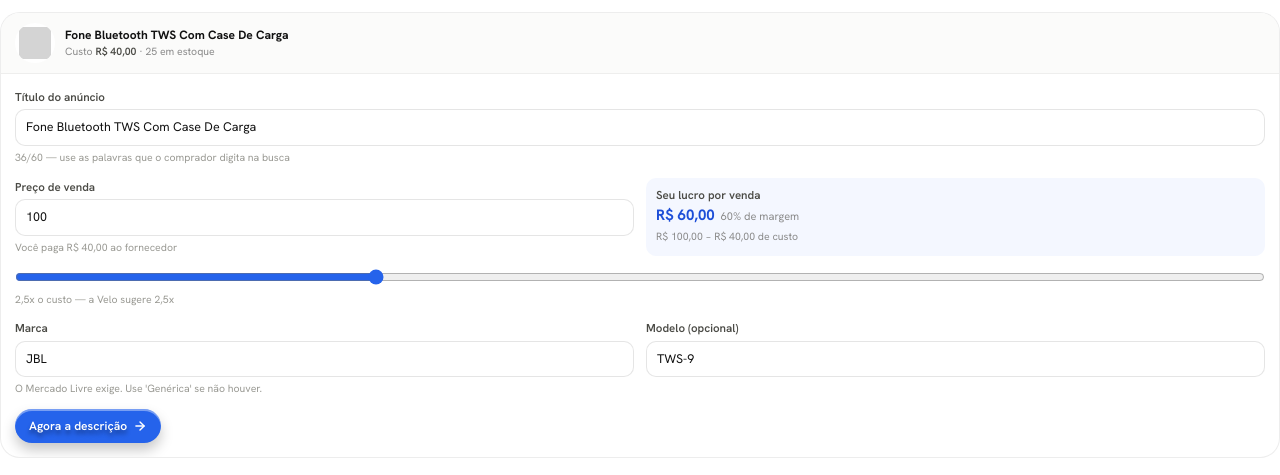
Test: AtlasPublishComposer › leva o custo para o resumo da revisão
Expected: the field showing "Fone Bluetooth TWS" is shown, left=15, top=109, right=1265, bottom=146
Step 1. Click the button "Agora a descrição" → point(88, 426), box left=15, top=409, right=161, bottom=443
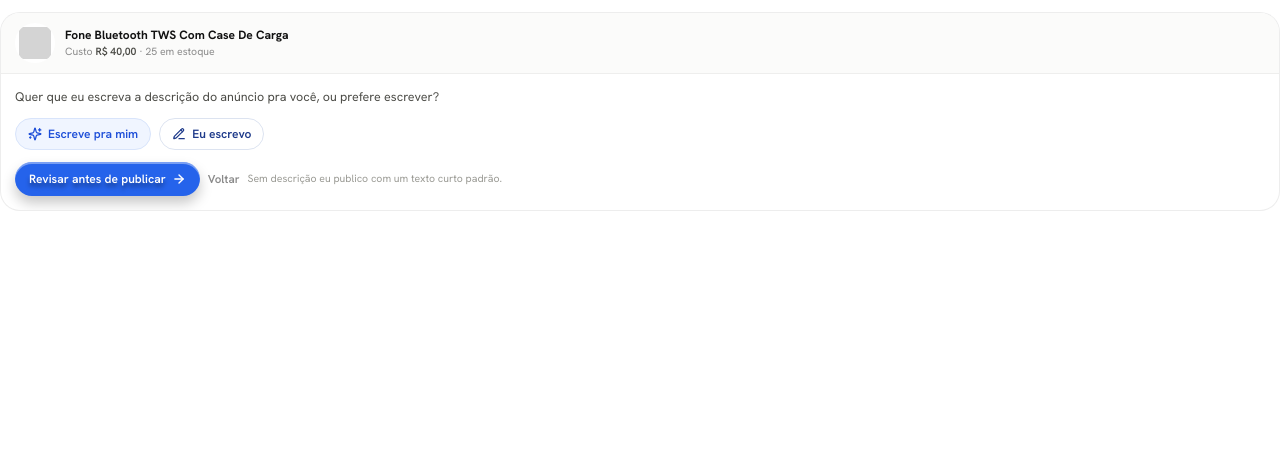
Step 2. Click the button "Revisar antes de publicar" → point(107, 179), box left=15, top=162, right=200, bottom=196
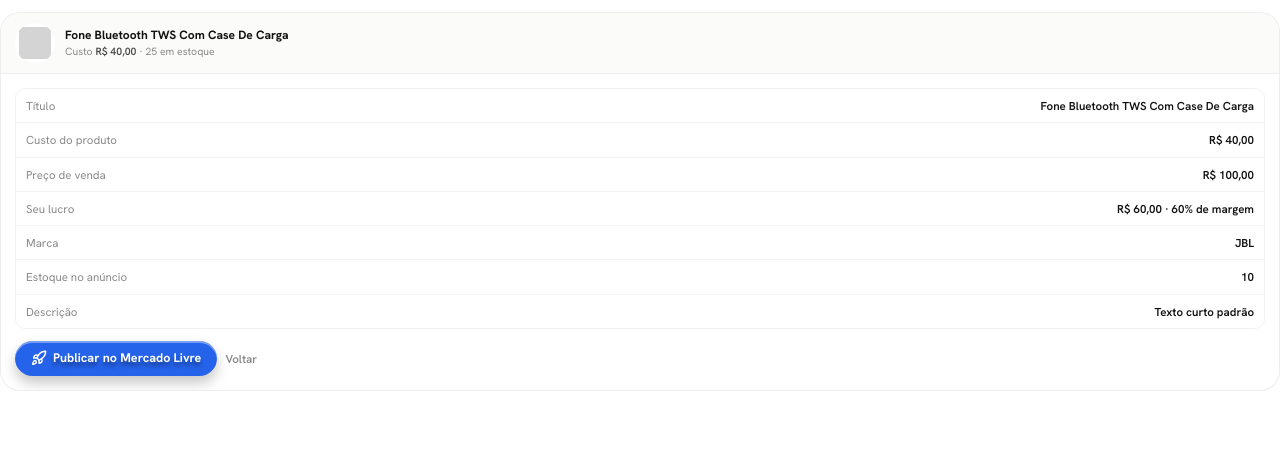
Expected: the text "Custo do produto" is shown, left=26, top=131, right=117, bottom=149
